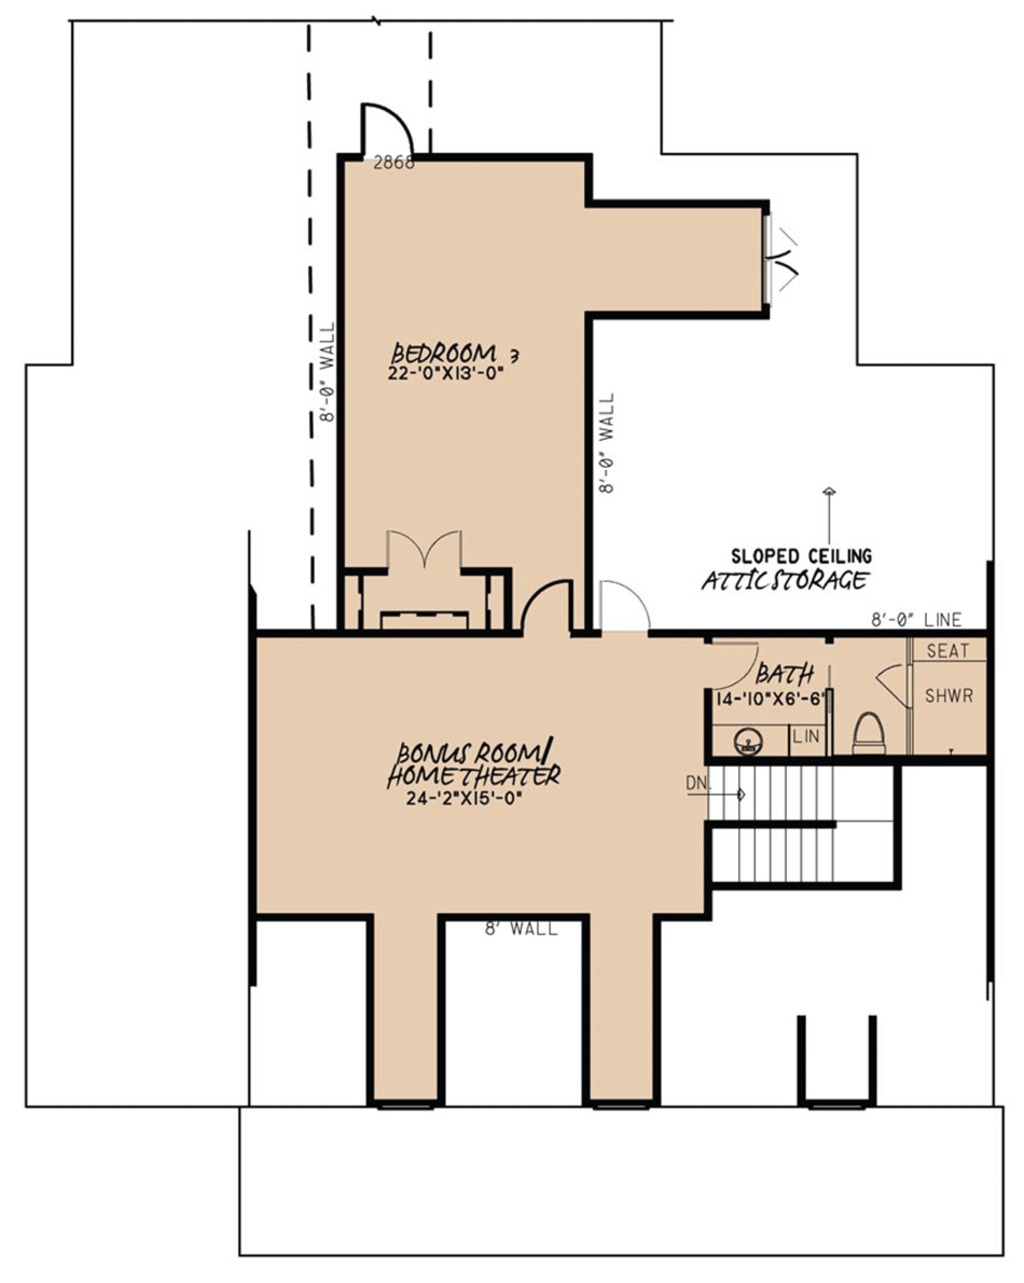door: (346, 98, 430, 167), (512, 582, 597, 649), (597, 567, 659, 637), (381, 521, 465, 574), (708, 639, 763, 686)
large_sink: (846, 700, 891, 768)
small_sink: (708, 721, 789, 763)
stairs: (697, 763, 900, 886)
